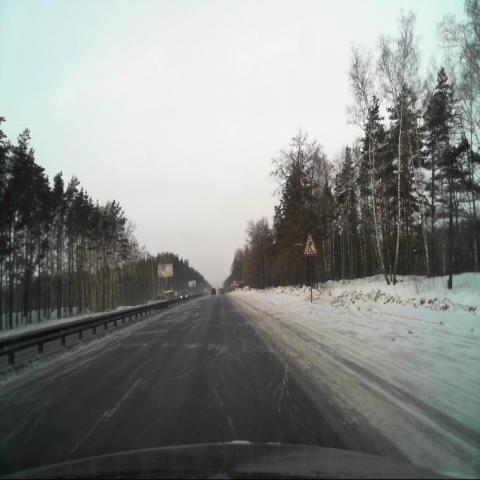1_22: (303, 232, 317, 258)
